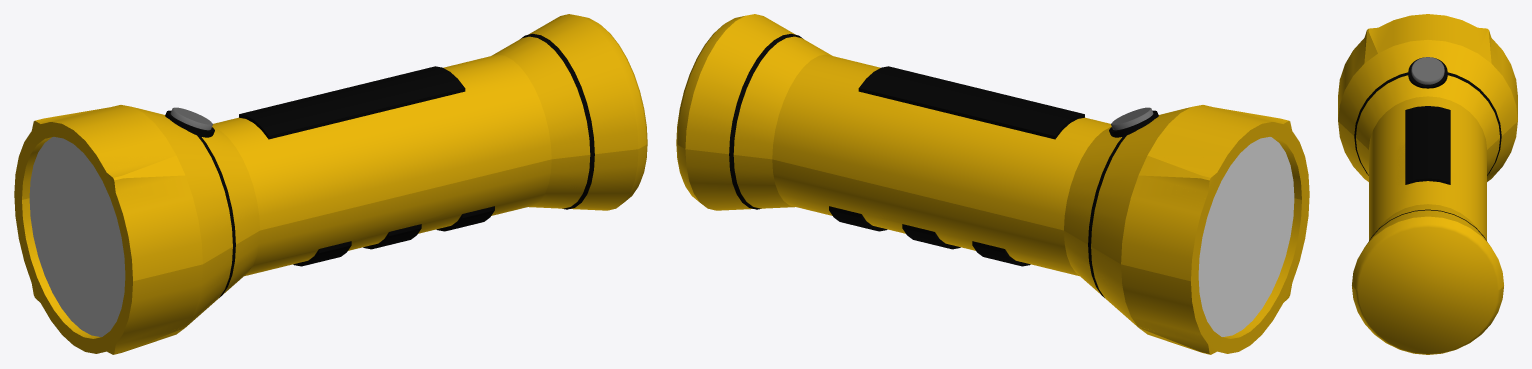
Rendered from flashlight_placeholder.fbx.
3 renders of one model, left to right at view 1: azimuth 30°, elevation 25°; view 2: azimuth 150°, elevation 25°; view 3: azimuth 270°, elevation 25°, orthographic. The views are drawn at different scales.
Visible parts, largest first — view 1: Cylinder, Cylinder.006, Cylinder.001, Cylinder.007, Cylinder.005, Cylinder.002, Cylinder.004, Cylinder.003, ButtonBase.001; view 2: Cylinder, Cylinder.006, Cylinder.001, Cylinder.007, Cylinder.005, Cylinder.002, Cylinder.004, Cylinder.003, ButtonBase.001; view 3: Cylinder, Cylinder.001, ButtonBase.001, Cylinder.005, ButtonBase, Cylinder.007.
Boxes of the visible parts, left/top/right/bottom form: Cylinder: left=14, top=14, right=647, bottom=354; Cylinder.006: left=29, top=137, right=125, bottom=336; Cylinder.001: left=239, top=66, right=465, bottom=139; Cylinder.007: left=521, top=33, right=594, bottom=209; Cylinder.005: left=197, top=135, right=235, bottom=297; Cylinder.002: left=293, top=241, right=351, bottom=266; Cylinder.004: left=363, top=224, right=421, bottom=249; Cylinder.003: left=436, top=206, right=494, bottom=231; ButtonBase.001: left=170, top=107, right=212, bottom=130; Cylinder: left=676, top=14, right=1309, bottom=354; Cylinder.006: left=1198, top=137, right=1294, bottom=336; Cylinder.001: left=858, top=66, right=1084, bottom=139; Cylinder.007: left=729, top=33, right=802, bottom=209; Cylinder.005: left=1088, top=135, right=1126, bottom=297; Cylinder.002: left=972, top=241, right=1030, bottom=266; Cylinder.004: left=902, top=224, right=960, bottom=249; Cylinder.003: left=829, top=206, right=887, bottom=231; ButtonBase.001: left=1111, top=107, right=1153, bottom=130; Cylinder: left=1338, top=14, right=1517, bottom=354; Cylinder.001: left=1405, top=106, right=1450, bottom=184; ButtonBase.001: left=1411, top=57, right=1444, bottom=84; Cylinder.005: left=1354, top=72, right=1501, bottom=175; ButtonBase: left=1408, top=58, right=1447, bottom=88; Cylinder.007: left=1369, top=209, right=1486, bottom=240.
Bounding box in the file's own units: 234 × 91.3 × 91.3.
